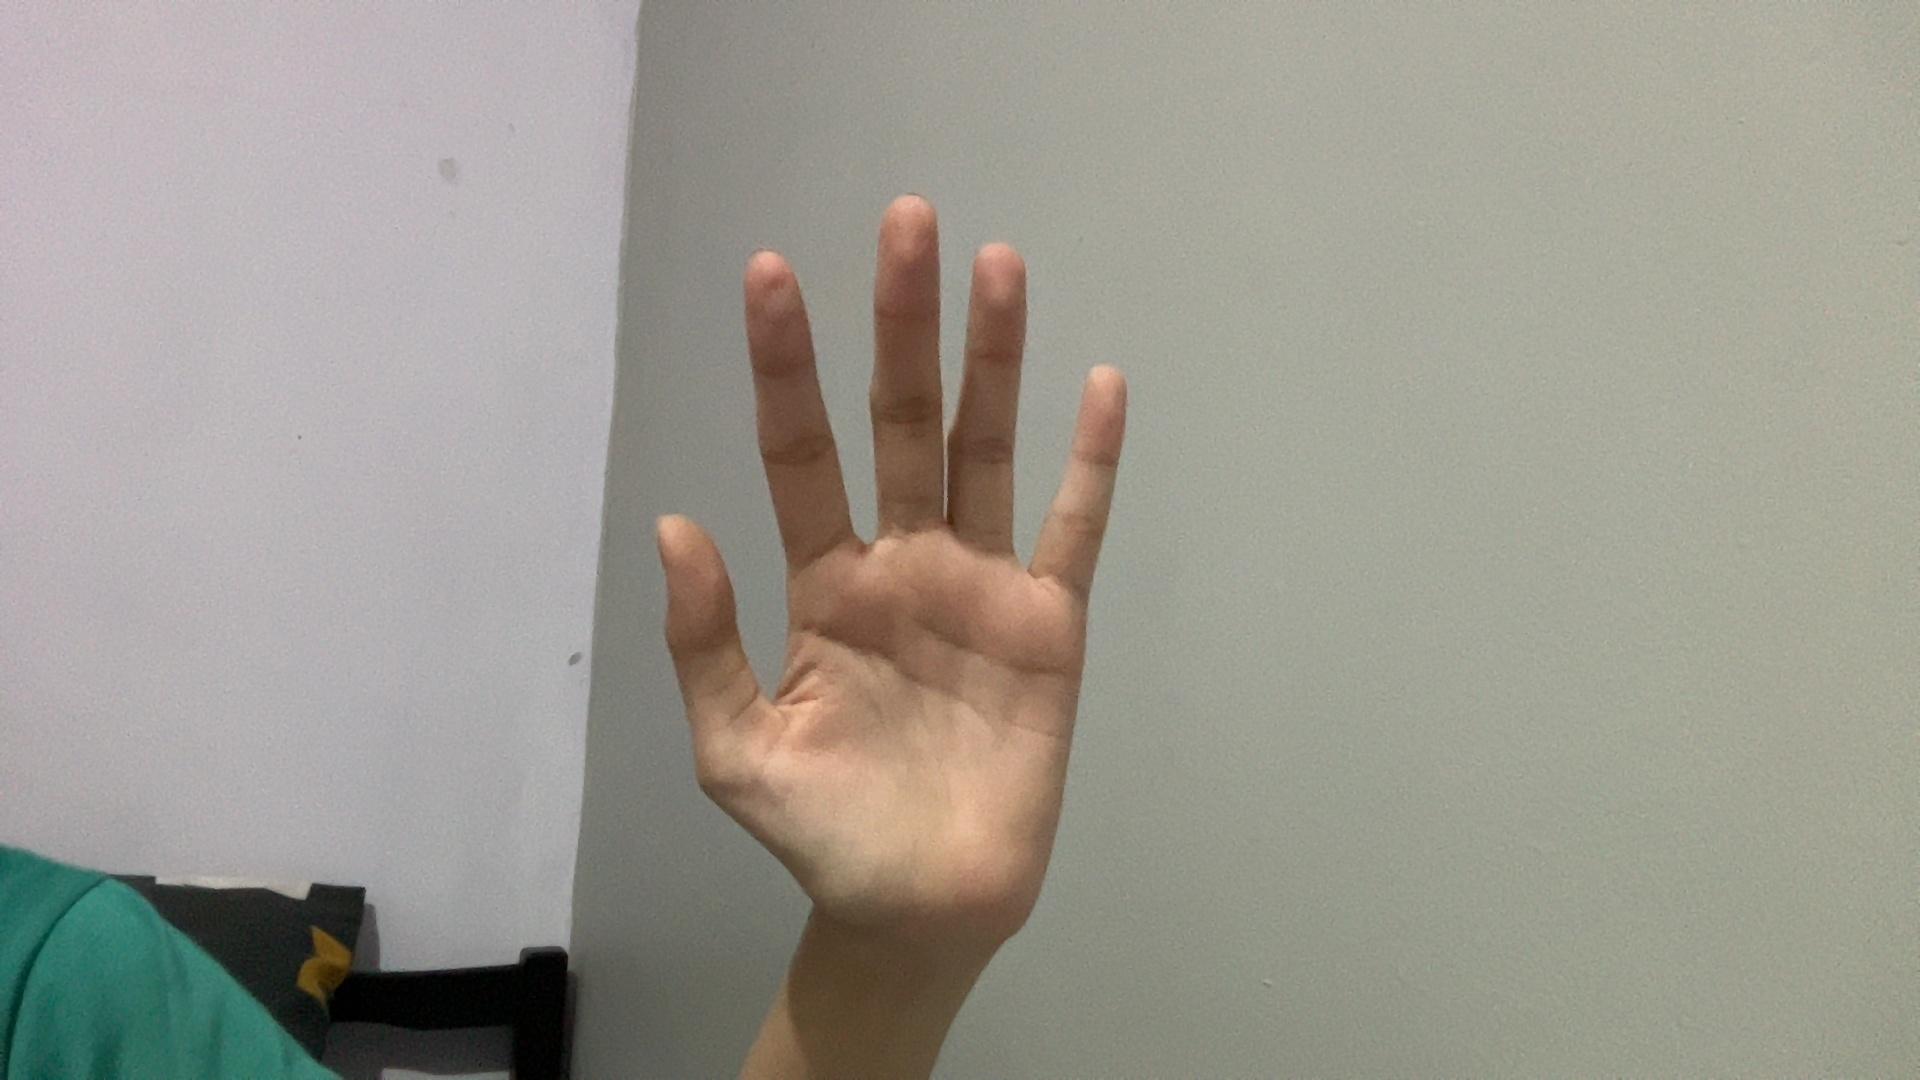Hello: (549, 196, 1247, 959)
